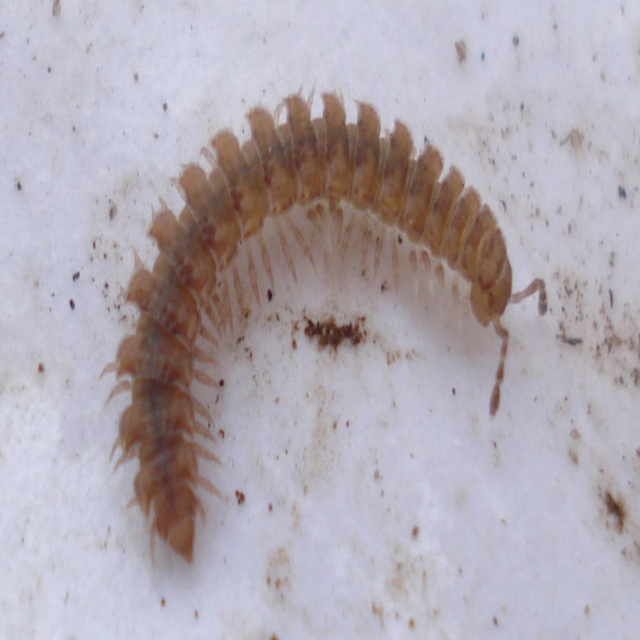Centipede: (95, 83, 547, 568)
